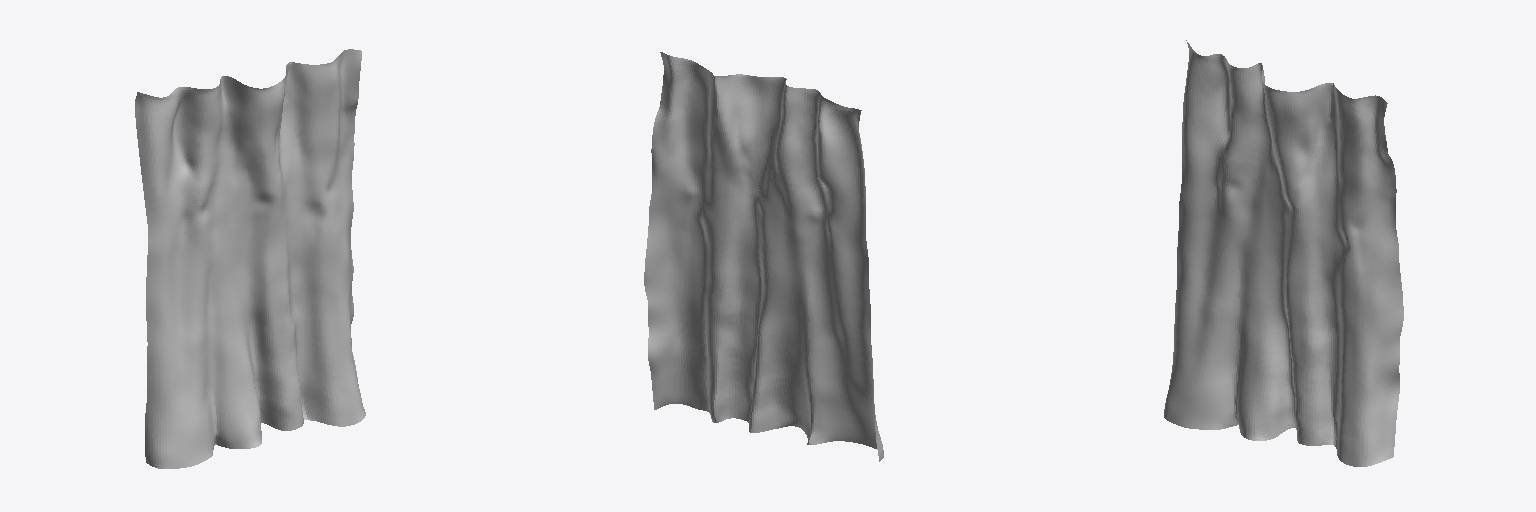
Rendered from SM_Curtain_highpoly_02_4.OBJ.
The picture shows the model from 3 angles: view 1: azimuth 30°, elevation 25°; view 2: azimuth 150°, elevation 25°; view 3: azimuth 330°, elevation 25°; orthographic projection.
Visible parts, largest first — view 1: Group1; view 2: Group1; view 3: Group1.
Boxes of the visible parts, <box> form: Group1: <box>135,49,365,468</box>; Group1: <box>644,52,883,461</box>; Group1: <box>1164,40,1403,466</box>.
Size of the model in its own units: 2.15 by 3.37 by 0.5082.